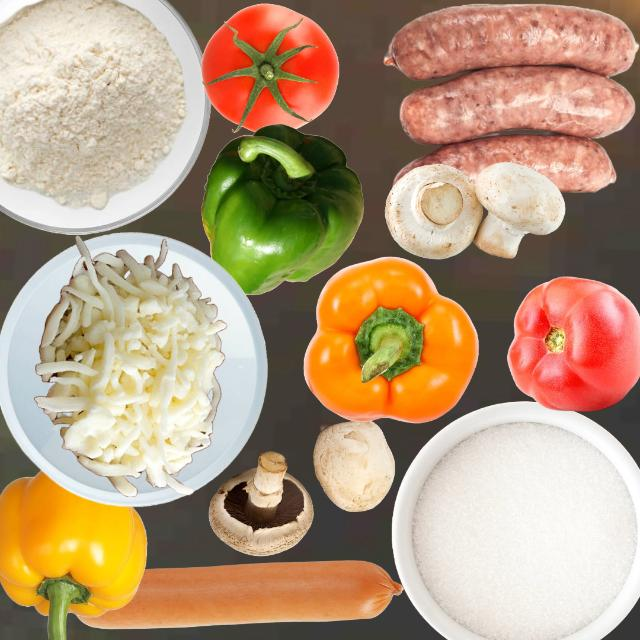Flour: (0, 0, 186, 209)
Sugar: (409, 419, 636, 638)
